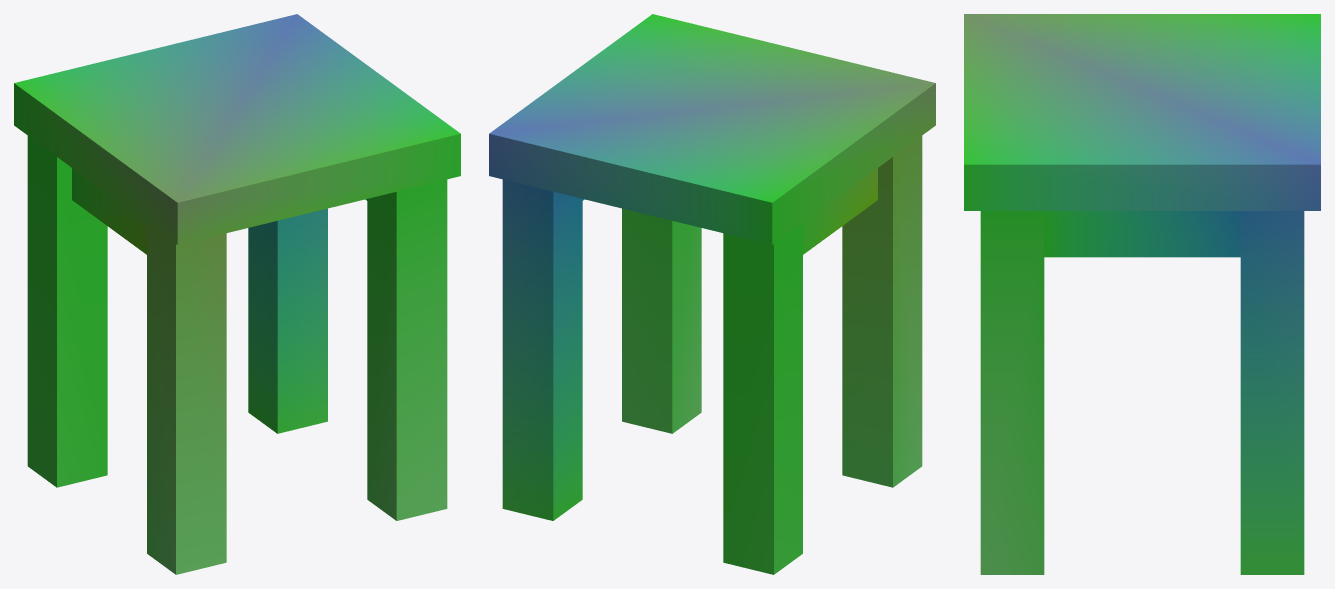
File: Stool_3.fbx
3 renders of one model, left to right at view 1: azimuth 30°, elevation 25°; view 2: azimuth 150°, elevation 25°; view 3: azimuth 270°, elevation 25°, orthographic. The views are drawn at different scales.
Parts seen in each view (by area): view 1: Stool_3; view 2: Stool_3; view 3: Stool_3.
Boxes of the visible parts, left/top/right/bottom form: Stool_3: left=14, top=14, right=460, bottom=574; Stool_3: left=489, top=14, right=935, bottom=574; Stool_3: left=964, top=14, right=1320, bottom=574.
Bounding box in the file's own units: 0.42 × 0.5372 × 0.42.
